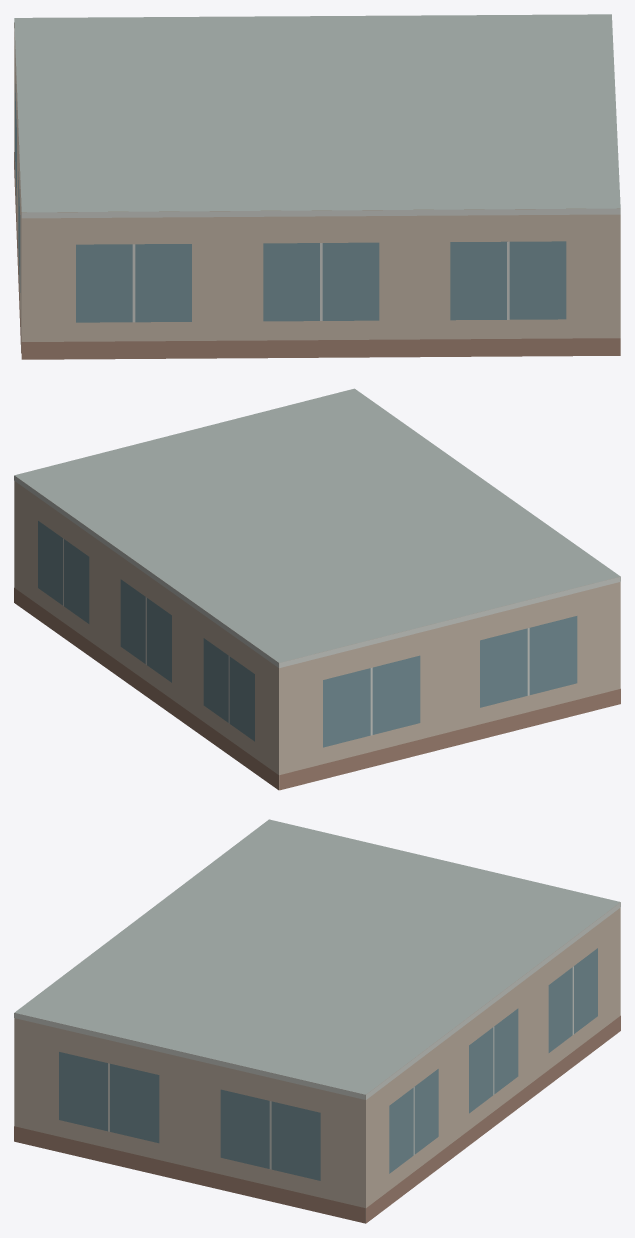
File: survey-upis-32641278.glb
The picture shows the model from 3 angles, top to bottom: view 1: azimuth 30°, elevation 25°; view 2: azimuth 150°, elevation 25°; view 3: azimuth 270°, elevation 25°; orthographic projection. The views are drawn at different scales.
Visible parts, largest first — view 1: survey-upis-32641278.tmp; view 2: survey-upis-32641278.tmp; view 3: survey-upis-32641278.tmp.
Boxes of the visible parts, bbox=[...] form: survey-upis-32641278.tmp: bbox=[14, 14, 620, 359]; survey-upis-32641278.tmp: bbox=[14, 388, 620, 790]; survey-upis-32641278.tmp: bbox=[14, 819, 620, 1223].
Size of the model in its own units: 14 by 3.05 by 13.03.
